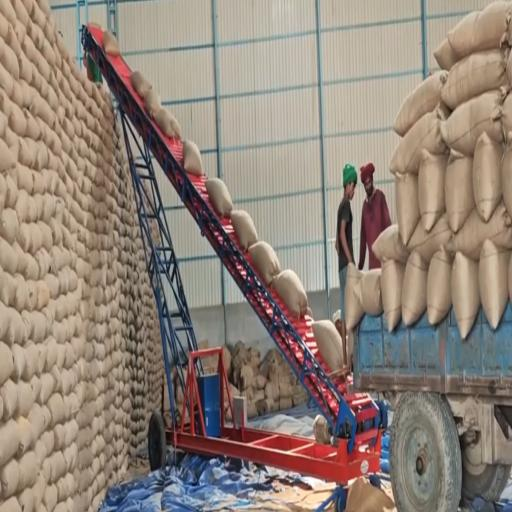Rice-bag-10: (312, 319, 347, 371), (272, 270, 308, 318), (248, 241, 281, 284), (230, 210, 258, 249), (206, 178, 232, 216), (154, 107, 181, 139), (15, 244, 39, 280), (18, 451, 39, 490), (183, 139, 204, 177), (27, 404, 49, 440), (23, 311, 48, 342), (22, 343, 39, 380), (131, 71, 152, 100), (17, 417, 33, 454), (55, 472, 75, 501), (144, 88, 162, 119), (48, 393, 65, 425), (14, 274, 29, 310), (18, 380, 33, 415), (32, 472, 46, 508), (38, 373, 54, 404), (50, 450, 66, 481), (44, 273, 63, 298), (44, 339, 58, 371), (103, 30, 120, 56), (13, 242, 27, 273), (64, 442, 78, 471), (64, 392, 80, 417), (54, 295, 69, 321), (64, 419, 78, 446), (36, 281, 49, 309), (61, 370, 76, 394), (41, 457, 54, 484), (44, 484, 57, 511), (27, 281, 39, 310), (36, 343, 47, 373), (41, 430, 54, 455), (50, 364, 62, 391), (42, 306, 54, 333), (30, 376, 42, 402), (58, 267, 70, 293), (34, 440, 46, 465), (77, 427, 92, 447), (65, 473, 78, 496), (66, 292, 80, 313), (53, 425, 66, 447), (62, 317, 74, 340), (65, 344, 76, 369), (55, 344, 66, 368), (75, 382, 85, 405), (54, 323, 65, 343), (77, 407, 88, 427), (69, 269, 78, 292)
c-belt: (82, 24, 387, 485)
other: (119, 0, 486, 298), (354, 305, 512, 511), (163, 185, 255, 340), (99, 454, 335, 511), (251, 403, 317, 440), (346, 475, 396, 511)
